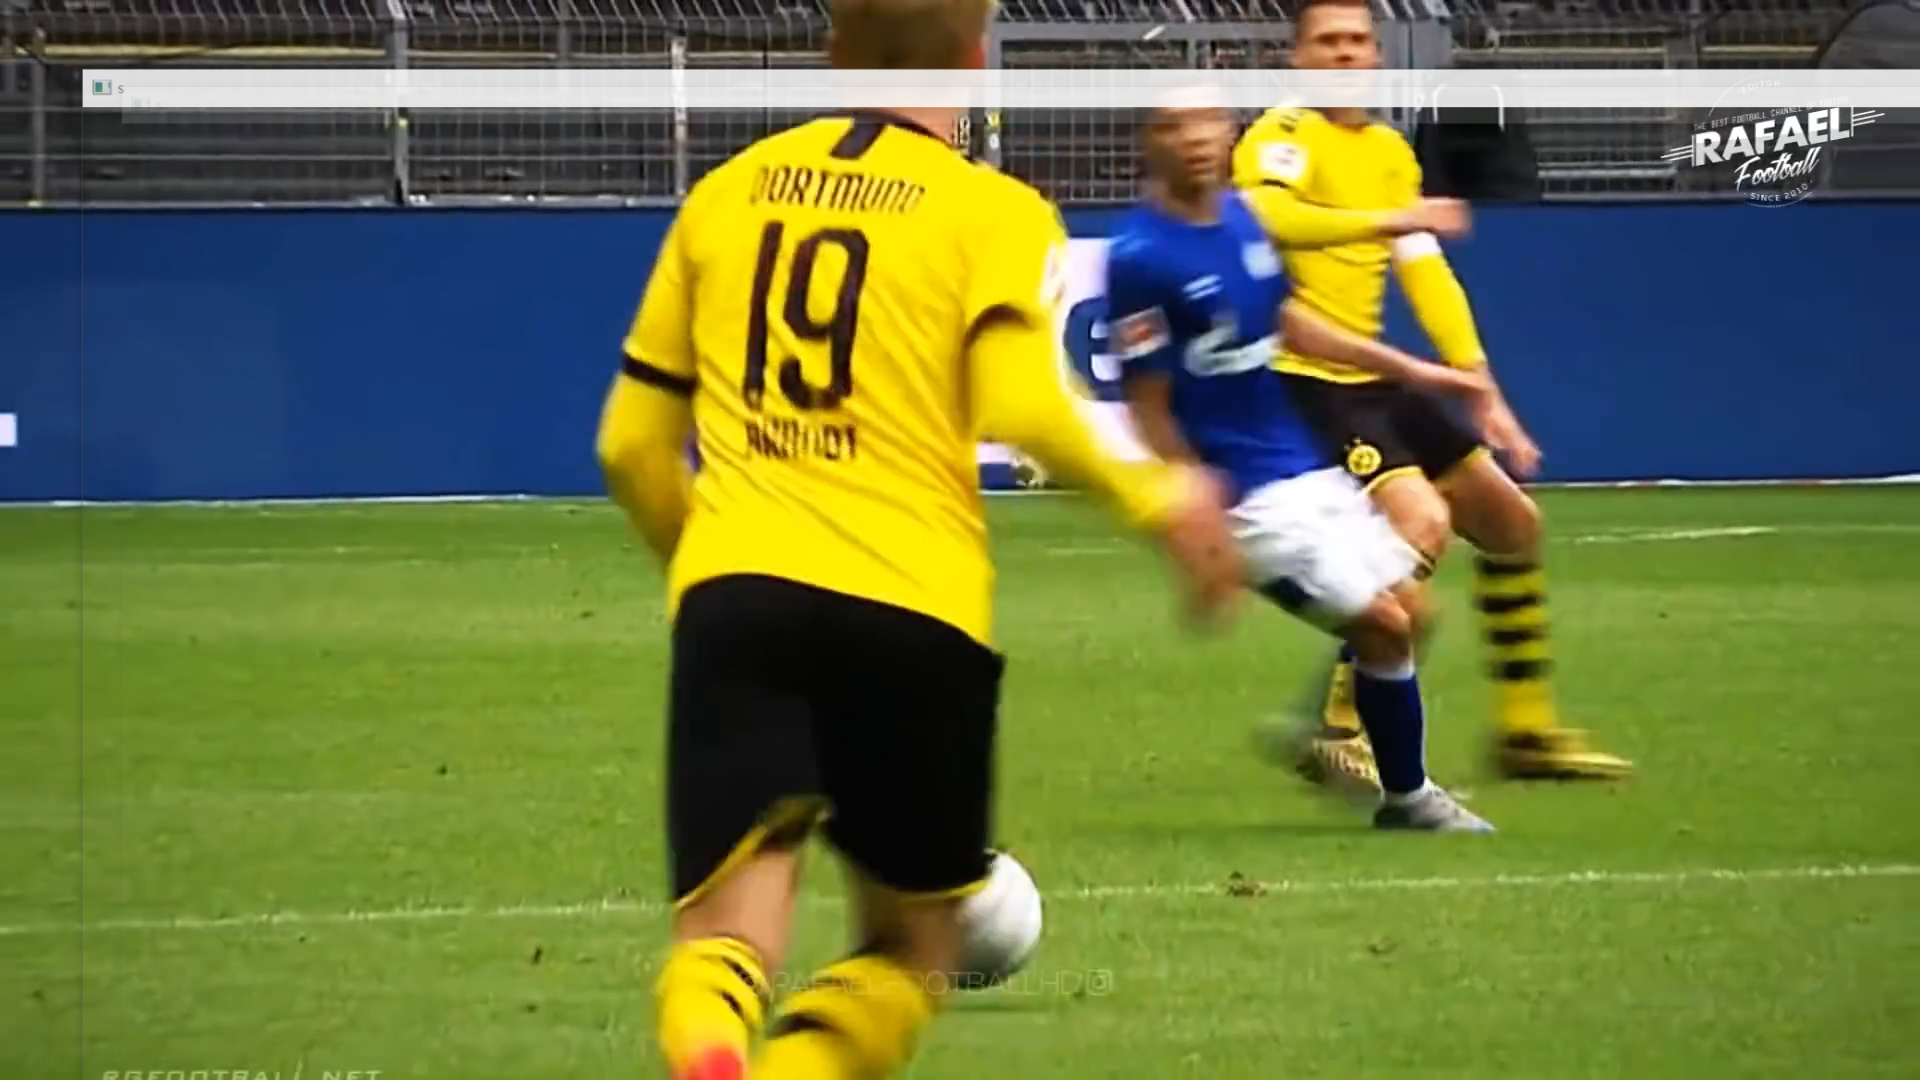ft: (909, 851, 1065, 988)
